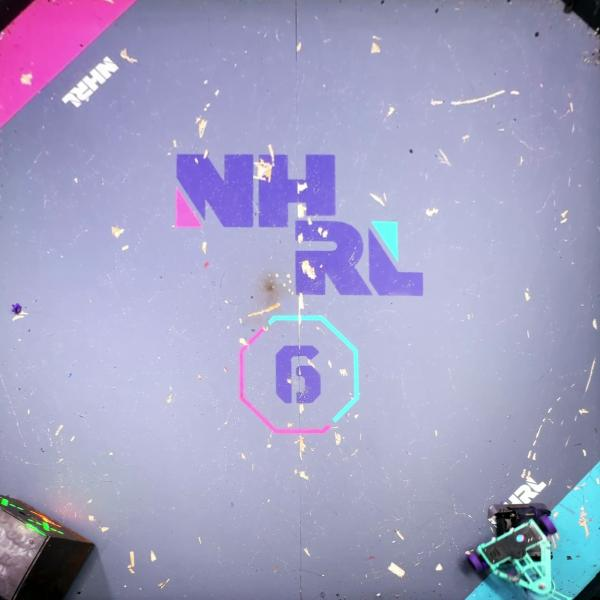housebot: (0, 492, 96, 600)
robot: (466, 515, 577, 600), (486, 502, 556, 578)
